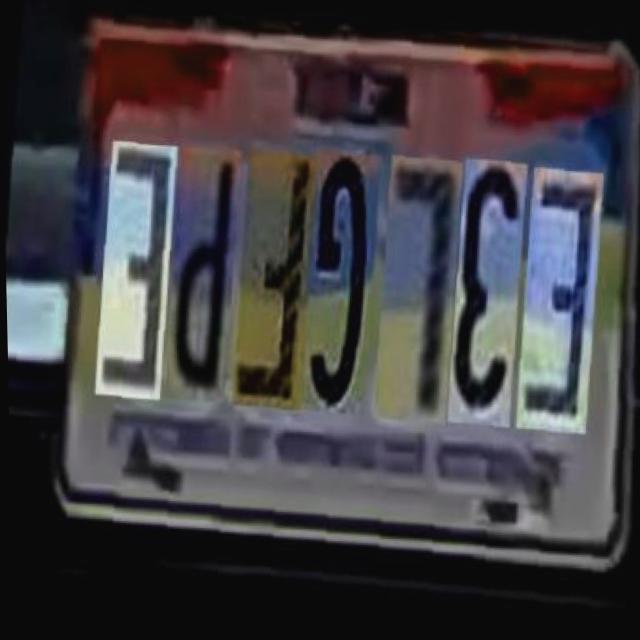3: (442, 170, 526, 439)
e: (510, 176, 602, 445), (89, 166, 176, 428)
f: (226, 170, 316, 434)
g: (293, 169, 379, 434)
l: (368, 170, 462, 440)
p: (159, 169, 239, 429)
